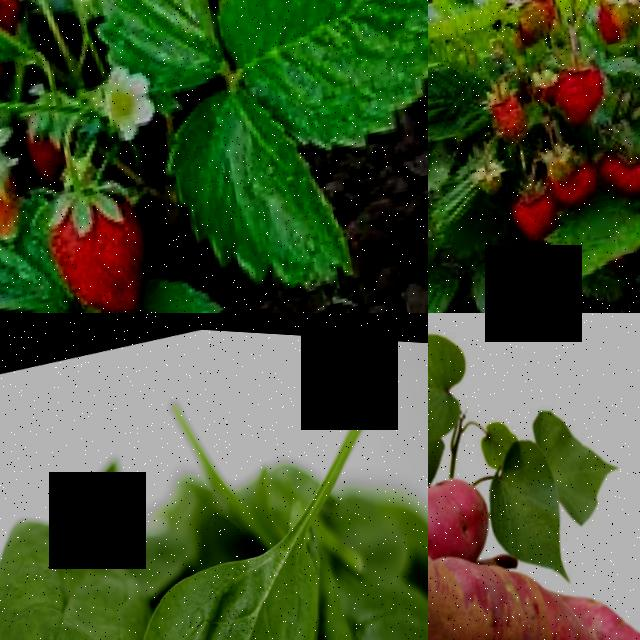spinach: (110, 529, 370, 640), (0, 486, 155, 640)
strawberry: (43, 168, 181, 313), (552, 51, 621, 125), (547, 145, 611, 208), (510, 176, 572, 241), (602, 134, 640, 199)
sweet potato: (428, 510, 563, 640)
